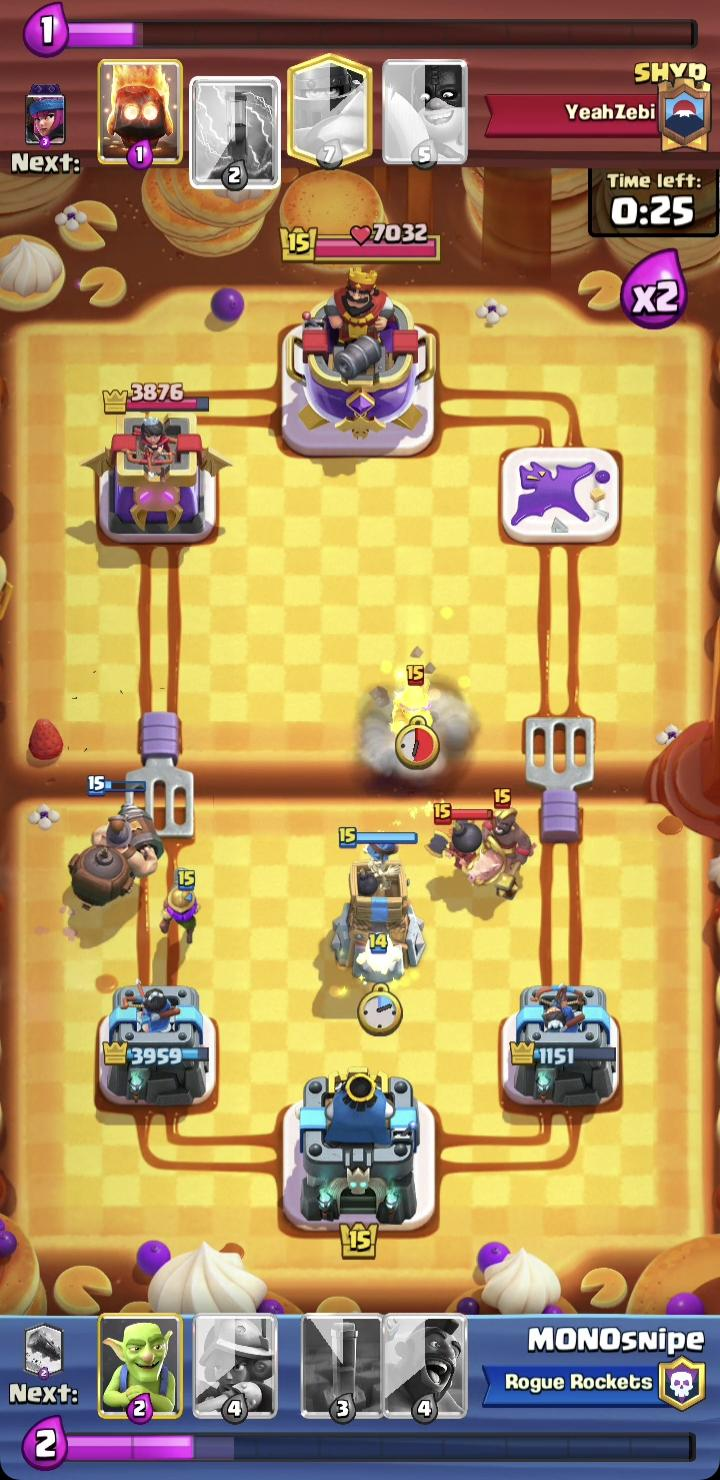ally_bombtower: (331, 824, 428, 986)
ally_ice_spirit: (356, 928, 402, 984)
ally_mightyminer: (63, 774, 174, 908)
ally_musketeer: (159, 866, 203, 950)
enemy_hog: (461, 786, 539, 900)
enemy_musketeer: (387, 662, 440, 748)
enemy_valkyrie: (424, 802, 498, 877)
